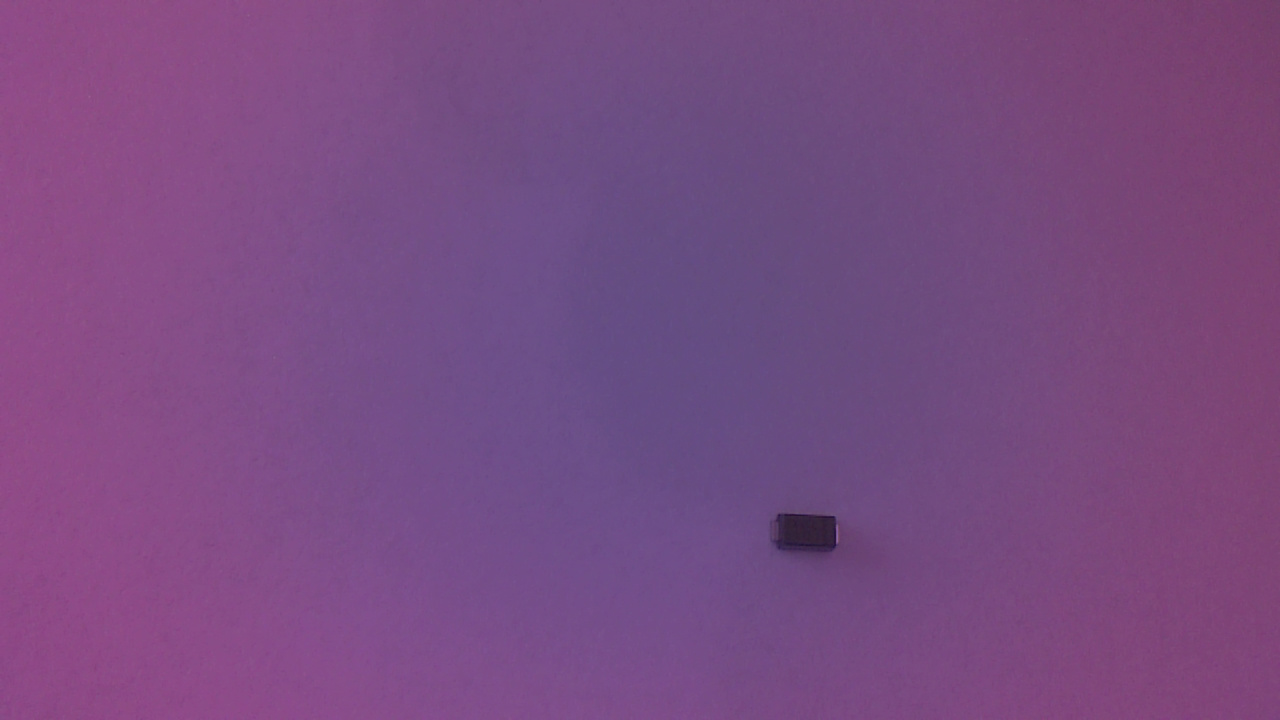Diode: (765, 511, 854, 564)
